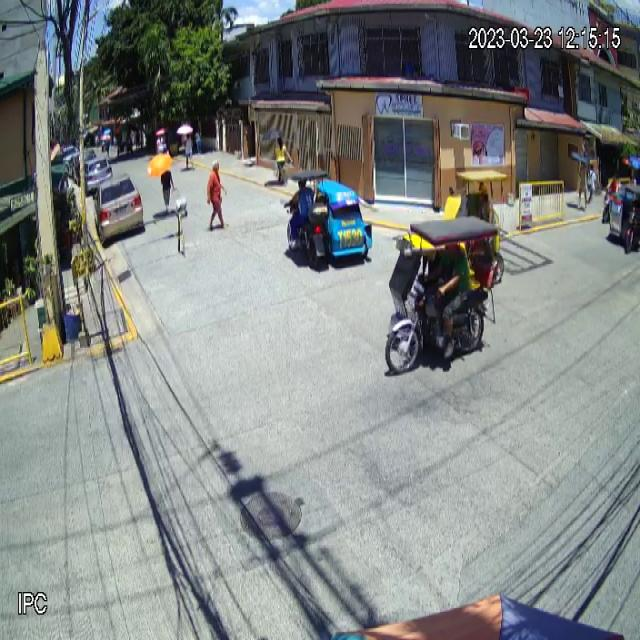Tricycle: (385, 217, 503, 371), (284, 170, 372, 267)
